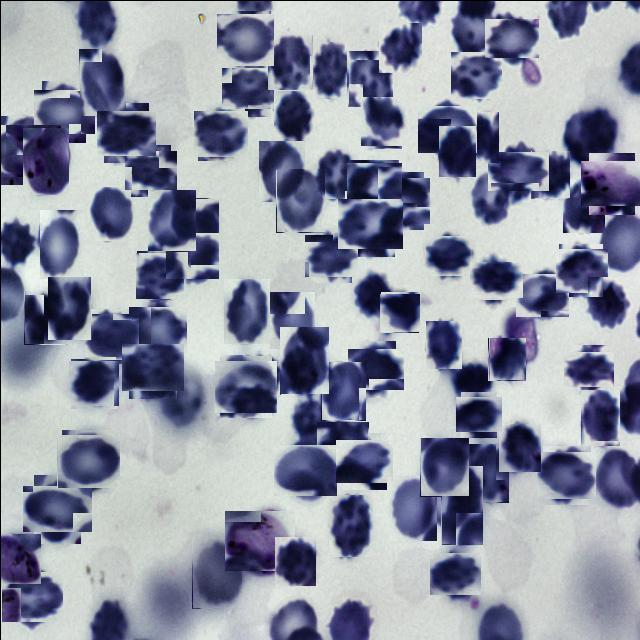red blood cell: (191, 539, 241, 608), (58, 431, 116, 490), (28, 480, 86, 538), (340, 194, 398, 252), (216, 356, 274, 414), (440, 464, 482, 544), (0, 120, 56, 180), (276, 441, 334, 498), (279, 326, 328, 393), (78, 48, 125, 116), (3, 567, 59, 624), (275, 168, 324, 232), (222, 278, 269, 344), (389, 475, 436, 540), (39, 209, 83, 278), (217, 11, 272, 66), (124, 340, 180, 394), (420, 101, 474, 156), (147, 189, 195, 250), (539, 448, 593, 502), (290, 397, 336, 460), (419, 437, 468, 496), (37, 84, 90, 138), (258, 138, 304, 200), (130, 303, 183, 356), (346, 160, 399, 213), (48, 276, 92, 339), (328, 494, 372, 556), (374, 174, 426, 226), (100, 106, 152, 158), (170, 196, 218, 252), (268, 291, 314, 349), (320, 361, 365, 420), (492, 146, 544, 196), (266, 34, 312, 90), (86, 310, 136, 361), (347, 50, 392, 106), (196, 108, 246, 158), (450, 49, 500, 99), (318, 420, 368, 470), (339, 436, 389, 486), (166, 230, 216, 280), (88, 186, 134, 240), (350, 344, 399, 393), (224, 64, 274, 112), (468, 443, 508, 502), (518, 270, 566, 319), (556, 245, 604, 294), (308, 41, 349, 98), (23, 290, 66, 344), (470, 169, 512, 224), (306, 231, 354, 279), (69, 358, 117, 406), (360, 96, 407, 145), (579, 389, 619, 446), (562, 178, 604, 232), (313, 148, 358, 198), (587, 276, 629, 329), (273, 88, 314, 142), (425, 232, 472, 279), (431, 550, 478, 597), (487, 14, 534, 61), (136, 251, 182, 298), (378, 22, 421, 72), (127, 147, 173, 193), (274, 536, 316, 586), (242, 351, 280, 406), (473, 257, 518, 302), (498, 423, 540, 471), (437, 125, 475, 177), (461, 111, 498, 162), (530, 150, 569, 198), (566, 348, 610, 390), (424, 320, 461, 369), (353, 270, 390, 316), (471, 259, 512, 300), (364, 103, 401, 148), (488, 337, 526, 380), (428, 235, 468, 275), (458, 394, 498, 434), (379, 292, 419, 331)
trophozoite: (227, 507, 292, 573), (22, 127, 68, 194), (584, 156, 638, 210), (0, 533, 40, 583)
